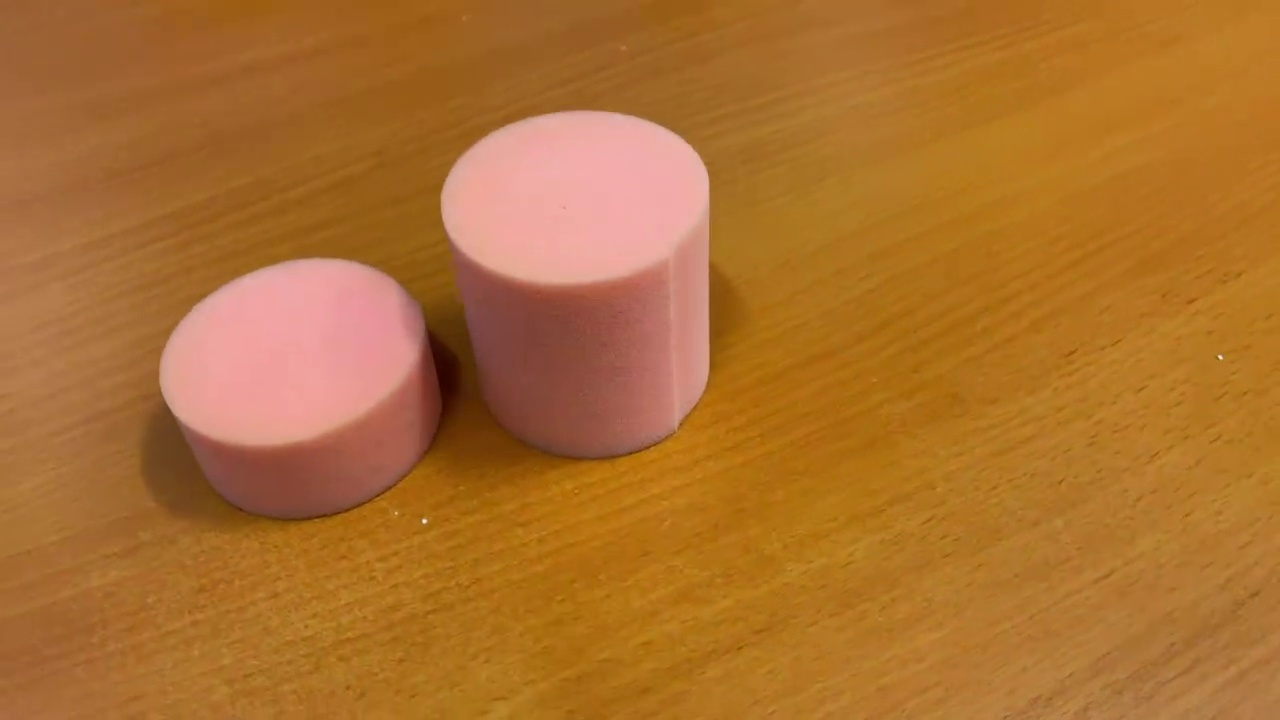Clyinder_short: (150, 253, 447, 528)
Cylinder: (430, 99, 722, 469)
